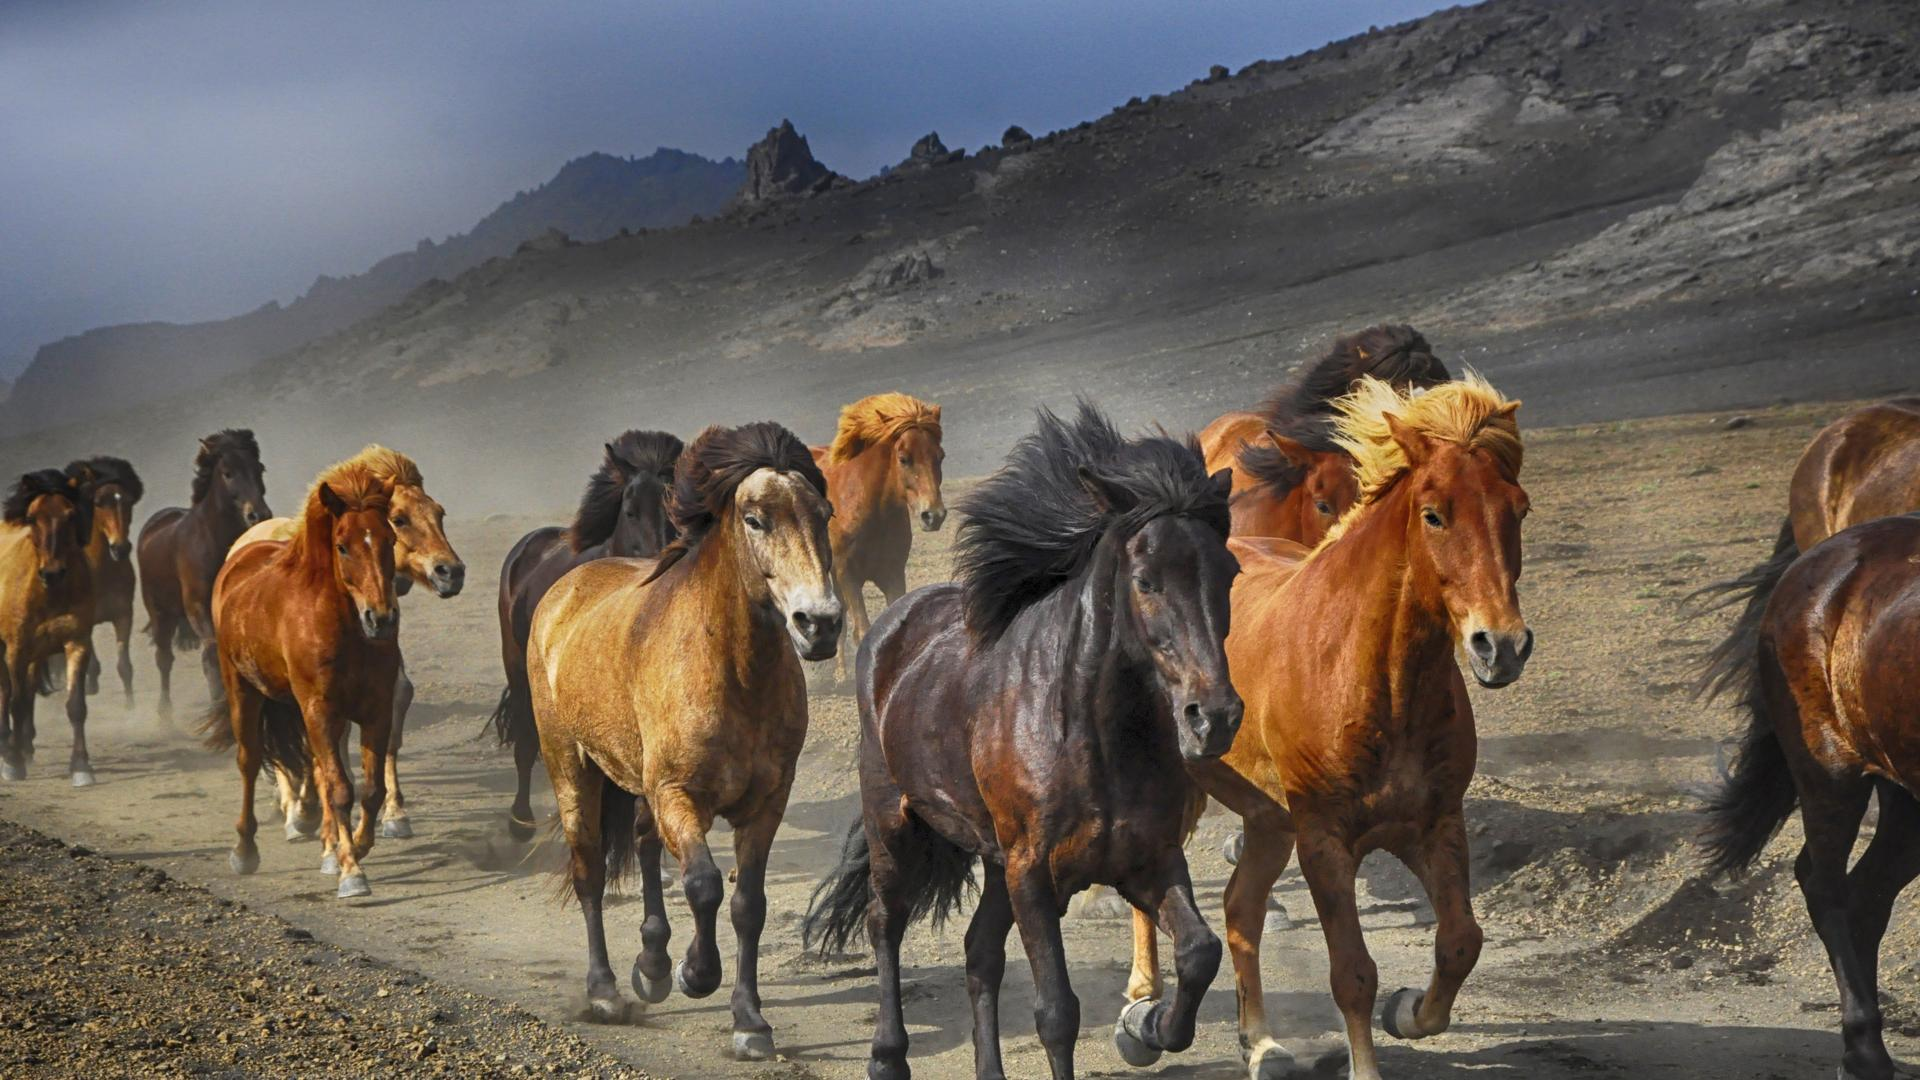horse: (799, 388, 1254, 1080), (1118, 363, 1543, 1080), (512, 415, 845, 1079), (214, 434, 469, 852), (487, 422, 702, 851), (207, 462, 411, 901), (132, 426, 277, 741), (800, 388, 952, 658), (1, 465, 109, 795), (25, 448, 146, 712)
